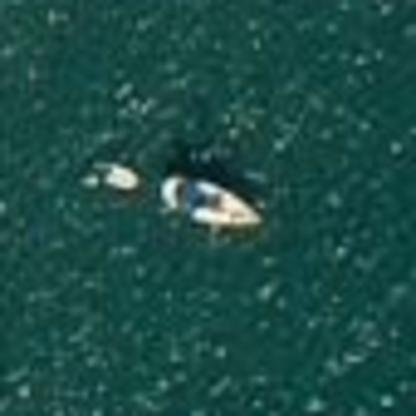ship: (90, 155, 270, 238)
